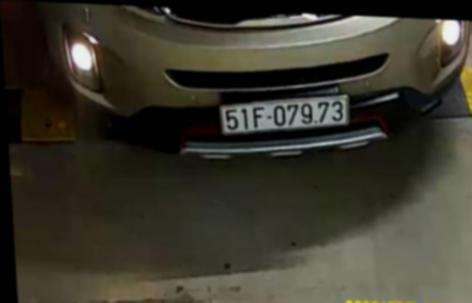License_Plate: (216, 90, 361, 140)
